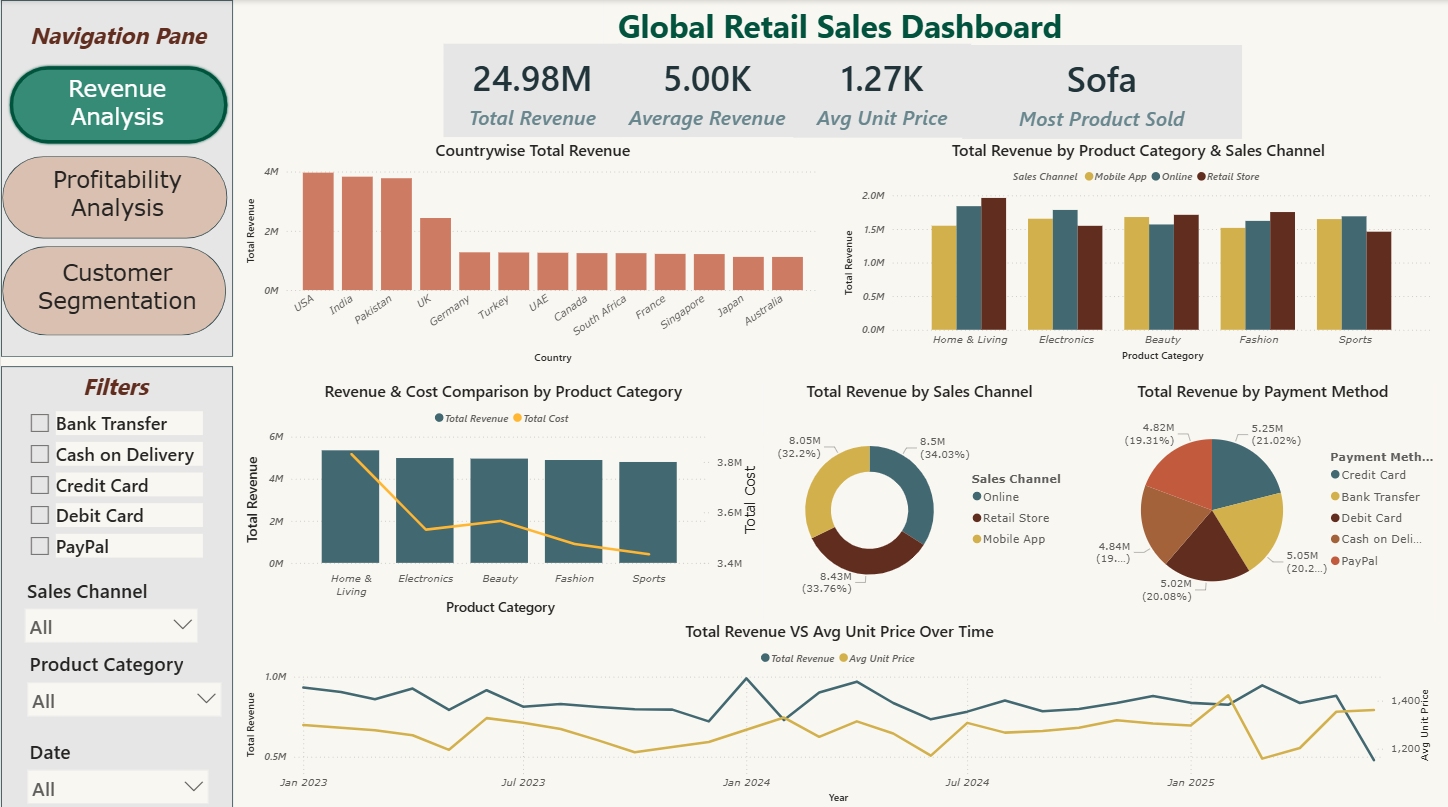

Layout of this report page (visuals, bound fields, positions):
{"tool":"powerbi","page":{"name":"Revenue Analysis","canvas":[1700,950],"ordinal":0},"visuals":[{"type":"card","fields":{"Values":["Sum(global_retail_sales_dataset.Revenue)"]},"box":[519.2,51.4,209.5,109.3],"z":0,"group":"g4"},{"type":"shape","box":[0,430.8,272.7,519.5],"z":0},{"type":"shape","box":[0,0,272.7,419.5],"z":1000},{"type":"card","fields":{"Values":["Avg(global_retail_sales_dataset.Revenue)"]},"box":[724.8,51.7,208.9,109.3],"z":1000,"group":"g4"},{"type":"card","fields":{"Values":["Min(global_retail_sales_dataset.Product_Name)"]},"box":[1128.4,52,328.5,110],"z":2000,"group":"g4"},{"type":"columnChart","title":"Countrywise Total Revenue","fields":{"Category":["global_retail_sales_dataset.Country"],"Y":["Sum(global_retail_sales_dataset.Revenue)"]},"box":[283.3,162.4,682.9,269],"z":2000},{"type":"textbox","box":[708,0,556,62],"z":3000},{"type":"lineChart","title":"Total Revenue VS Avg Unit Price Over Time","fields":{"Y":["Sum(global_retail_sales_dataset.Revenue)"],"Category":["global_retail_sales_dataset.Order_Date.Variation.Date Hierarchy.Year","global_retail_sales_dataset.Order_Date.Variation.Date Hierarchy.Month"],"Y2":["Avg(global_retail_sales_dataset.Unit_Price)"]},"box":[283.3,728.3,1403.3,221.7],"z":4000},{"type":"card","fields":{"Values":["Avg(global_retail_sales_dataset.Unit_Price)"]},"box":[930.6,51,208.9,110],"z":5000,"group":"g4"},{"type":"shape","box":[6.7,75,261.7,96.7],"z":5000},{"type":"shape","box":[2,183,264.6,96.8],"z":5000,"group":"g3"},{"type":"shape","box":[1.6,289,263,104.9],"z":5000,"group":"g1"},{"type":"textbox","box":[20,18.3,233.3,61.7],"z":6000},{"type":"textbox","box":[48.7,189.6,176.7,81.7],"z":6000,"group":"g3"},{"type":"textbox","box":[32.2,297.4,208.3,88.3],"z":6000,"group":"g1"},{"type":"group","id":"g1","title":"Group 4","box":[1.6,289,263,104.9],"z":6004,"group":"g2"},{"type":"textbox","box":[63.3,81.7,146.7,83.3],"z":7000},{"type":"group","id":"g2","title":"Group 2","box":[1.6,289,263,104.9],"z":8000},{"type":"group","id":"g3","title":"Group 3","box":[2,183,264.6,96.8],"z":9000},{"type":"textbox","box":[61.3,430.8,145.2,59.7],"z":10000},{"type":"lineClusteredColumnComboChart","title":"Revenue & Cost Comparison by Product Category","fields":{"Category":["global_retail_sales_dataset.Product_Category"],"Y2":["Sum(global_retail_sales_dataset.Cost)"],"Y":["Sum(global_retail_sales_dataset.Revenue)"]},"box":[283.3,446.7,613.3,281.7],"z":11000},{"type":"donutChart","fields":{"Category":["global_retail_sales_dataset.Sales_Channel"],"Y":["Sum(global_retail_sales_dataset.Revenue)"]},"box":[896.7,446.7,366.7,281.7],"z":12000},{"type":"pieChart","title":"Total Revenue by Payment Method","fields":{"Y":["Sum(global_retail_sales_dataset.Revenue)"],"Category":["global_retail_sales_dataset.Payment_Method"]},"box":[1280,446.7,406.7,281.7],"z":13000},{"type":"clusteredColumnChart","title":"Total Revenue by Product Category & Sales Channel","fields":{"Y":["Sum(global_retail_sales_dataset.Revenue)"],"Series":["global_retail_sales_dataset.Sales_Channel"],"Category":["global_retail_sales_dataset.Product_Category"]},"box":[985,163.3,701.7,266.7],"z":14000},{"type":"group","id":"g4","title":"Group 1","box":[519.2,51,937.7,111],"z":15000},{"type":"slicer","fields":{"Values":["global_retail_sales_dataset.Payment_Method"]},"box":[21.7,475,220,195],"z":16000},{"type":"slicer","fields":{"Values":["global_retail_sales_dataset.Sales_Channel"]},"box":[18.3,673.3,223.3,86.7],"z":17000},{"type":"slicer","fields":{"Values":["global_retail_sales_dataset.Product_Category"]},"box":[20,760,248.3,101.7],"z":18000},{"type":"slicer","fields":{"Values":["global_retail_sales_dataset.Order_Date.Variation.Date Hierarchy.Year","global_retail_sales_dataset.Order_Date.Variation.Date Hierarchy.Quarter","global_retail_sales_dataset.Order_Date.Variation.Date Hierarchy.Month","global_retail_sales_dataset.Order_Date.Variation.Date Hierarchy.Day"]},"box":[20,861.7,233.3,88.3],"z":19000}]}

Visuals, with their boxes on the page's 1700x950 design canvas (x1, y1, x2, y2). These are canvas units, not pixel positions in the 1448x807 screenshot, which may show the page scaled, cropped or inside an application window:
card - Sum(global_retail_sales_dataset.Revenue): box(519, 51, 729, 161)
shape: box(0, 431, 273, 950)
shape: box(0, 0, 273, 420)
card - Avg(global_retail_sales_dataset.Revenue): box(725, 52, 934, 161)
card - Min(global_retail_sales_dataset.Product_Name): box(1128, 52, 1457, 162)
"Countrywise Total Revenue" columnChart: box(283, 162, 966, 431)
textbox: box(708, 0, 1264, 62)
"Total Revenue VS Avg Unit Price Over Time" lineChart: box(283, 728, 1687, 950)
card - Avg(global_retail_sales_dataset.Unit_Price): box(931, 51, 1140, 161)
shape: box(7, 75, 268, 172)
shape: box(2, 183, 267, 280)
shape: box(2, 289, 265, 394)
textbox: box(20, 18, 253, 80)
textbox: box(49, 190, 225, 271)
textbox: box(32, 297, 240, 386)
"Group 4" group: box(2, 289, 265, 394)
textbox: box(63, 82, 210, 165)
"Group 2" group: box(2, 289, 265, 394)
"Group 3" group: box(2, 183, 267, 280)
textbox: box(61, 431, 206, 490)
"Revenue & Cost Comparison by Product Category" lineClusteredColumnComboChart: box(283, 447, 897, 728)
donutChart - global_retail_sales_dataset.Sales_Channel x Sum(global_retail_sales_dataset.Revenue): box(897, 447, 1263, 728)
"Total Revenue by Payment Method" pieChart: box(1280, 447, 1687, 728)
"Total Revenue by Product Category & Sales Channel" clusteredColumnChart: box(985, 163, 1687, 430)
"Group 1" group: box(519, 51, 1457, 162)
slicer - global_retail_sales_dataset.Payment_Method: box(22, 475, 242, 670)
slicer - global_retail_sales_dataset.Sales_Channel: box(18, 673, 242, 760)
slicer - global_retail_sales_dataset.Product_Category: box(20, 760, 268, 862)
slicer - global_retail_sales_dataset.Order_Date.Variation.Date Hierarchy.Year x global_retail_sales_dataset.Order_Date.Variation.Date Hierarchy.Quarter: box(20, 862, 253, 950)
